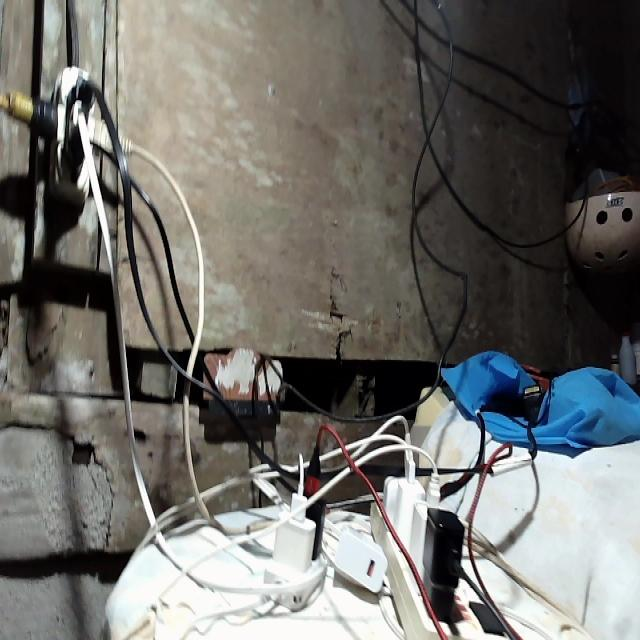-: (14, 58, 144, 210)
